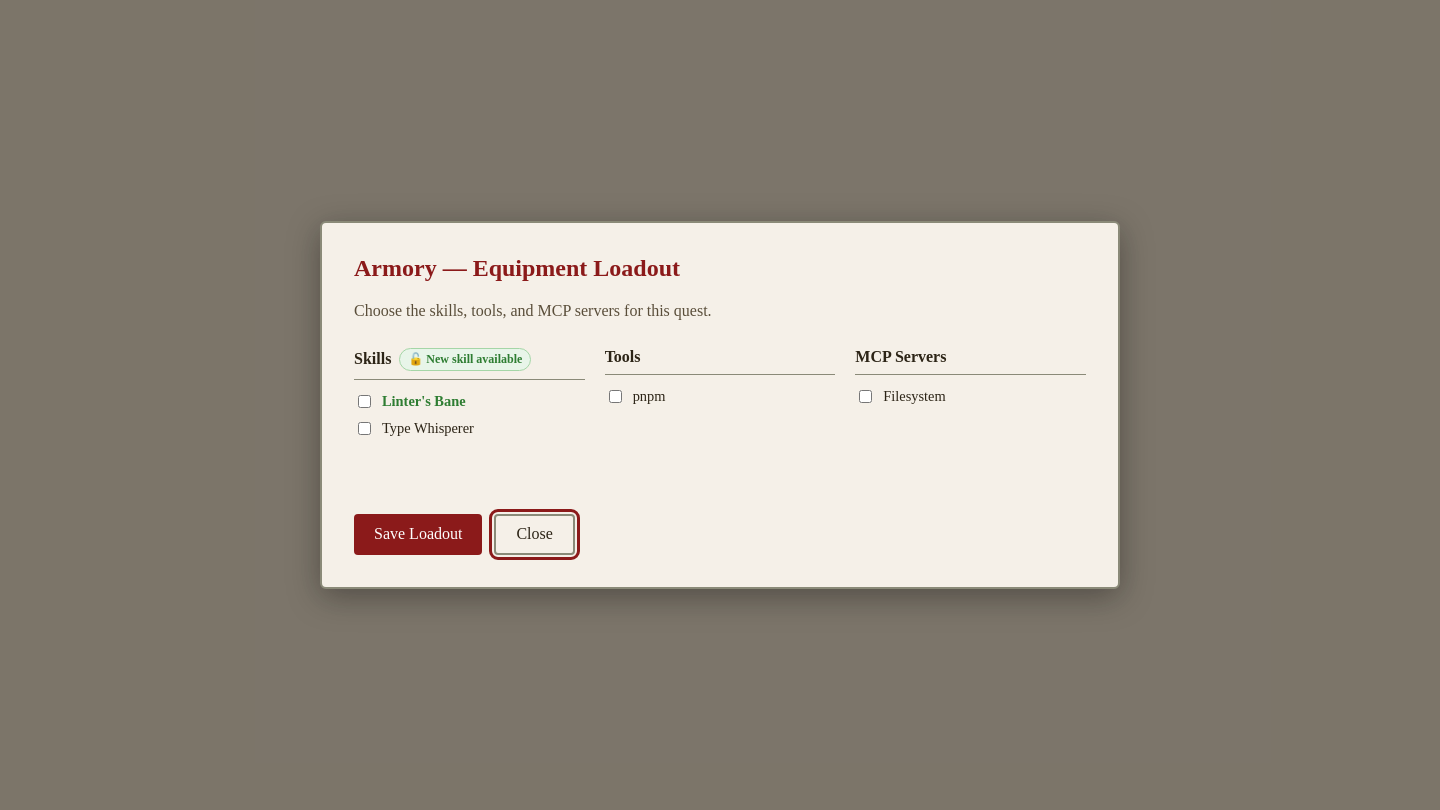
Test: LoadoutPanel › error message does not auto-dismiss
Click the button "Save Loadout": (418, 534) [354,514,482,555]
Wait 5000 ms
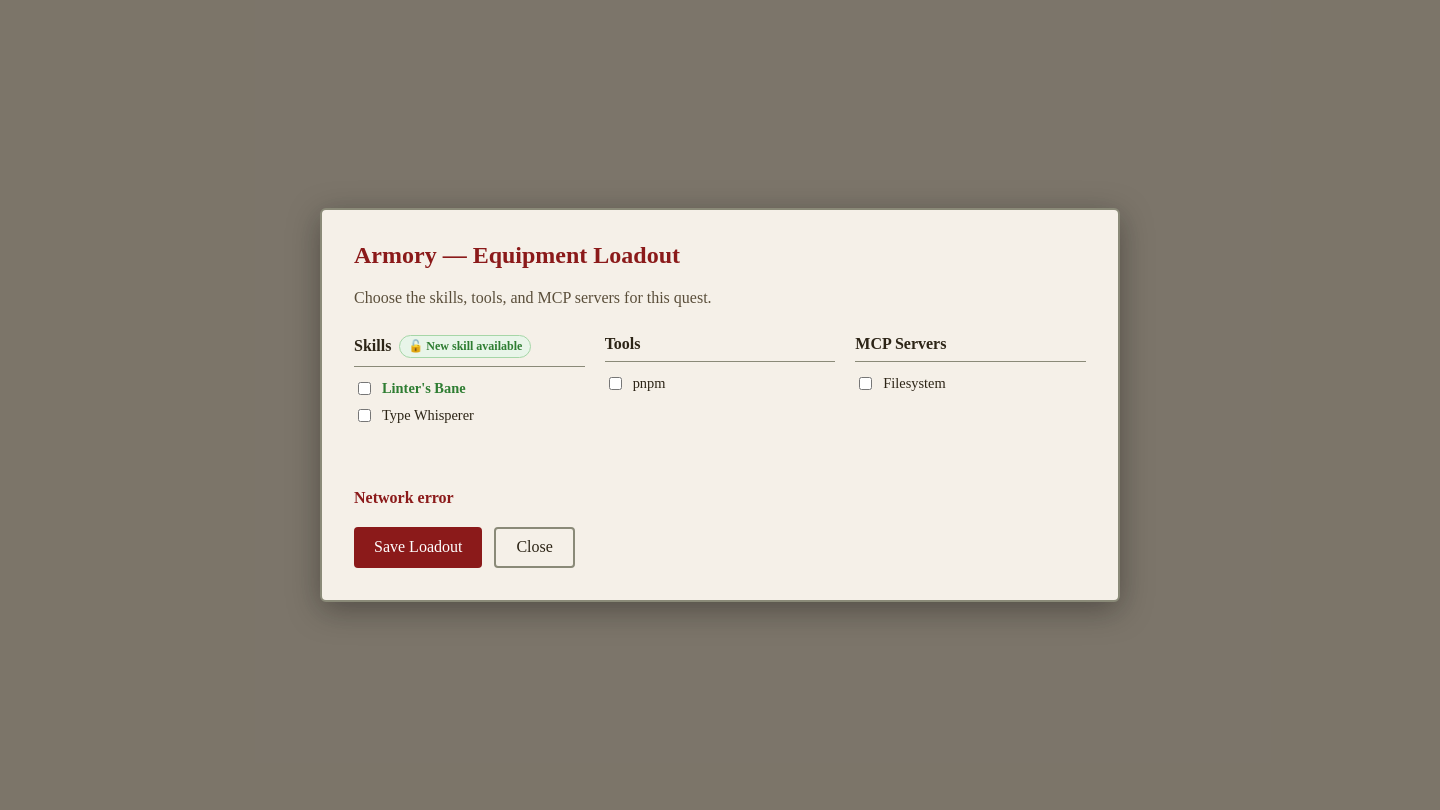
Now the text "Network error" is shown, box [354,489,454,506]
